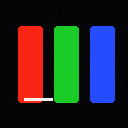3 line_h: (24, 98, 52, 100)
